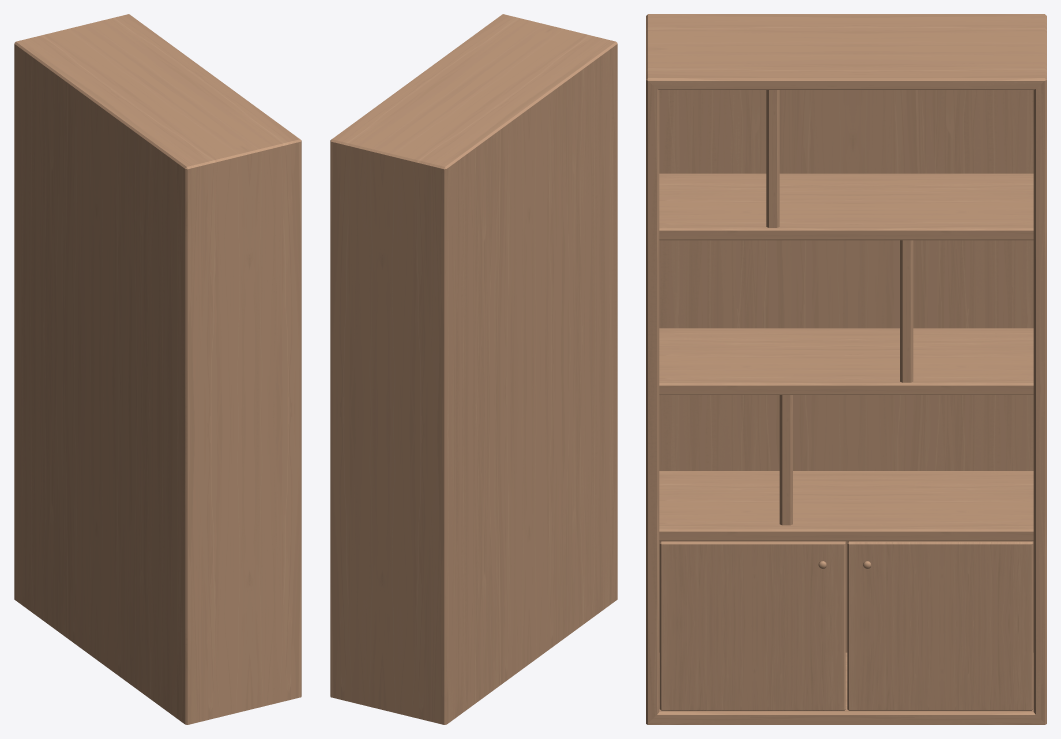
The model's file is bookshelf_2.glb.
3 views of the same model, side by side, from view 1: azimuth 30°, elevation 25°; view 2: azimuth 150°, elevation 25°; view 3: azimuth 270°, elevation 25° (orthographic). The views are drawn at different scales.
Visible parts, largest first — view 1: bookshelf 2; view 2: bookshelf 2; view 3: bookshelf 2, left door, right door, divisor.
Part boxes in pixels (x1,y1,x2,y2): bookshelf 2: (14, 14, 301, 724); bookshelf 2: (330, 14, 617, 724); bookshelf 2: (646, 14, 1046, 724); left door: (659, 541, 845, 710); right door: (847, 541, 1033, 710); divisor: (766, 90, 913, 525).
Bounding box in the file's own units: 0.7141 × 3.2 × 1.8.
Materials: 1 (1 with a texture image).
